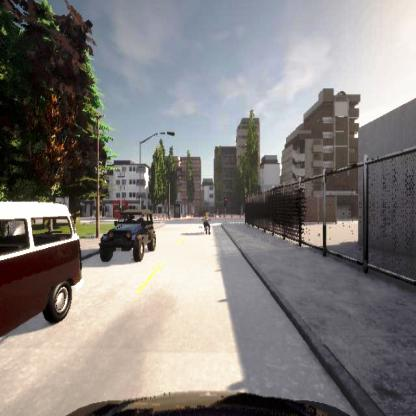bike: (202, 214, 211, 234)
vehicle: (98, 209, 157, 262)
